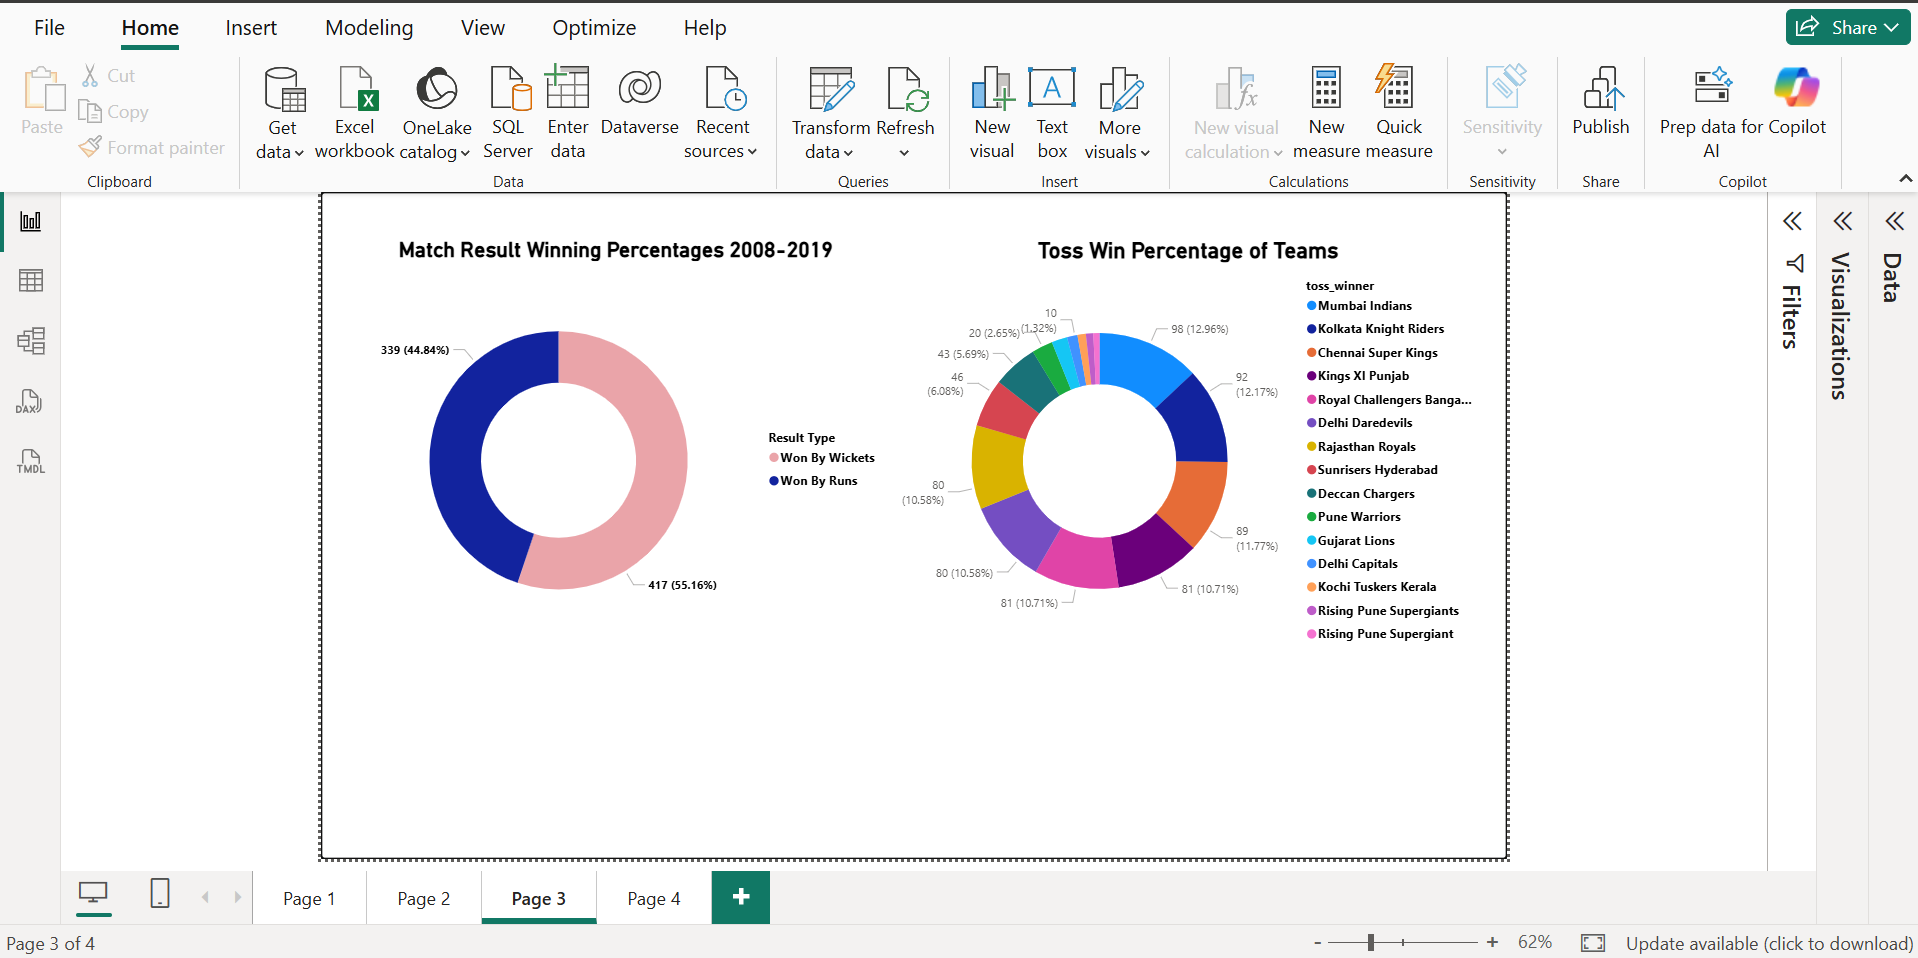

This screenshot's page, from the dashboard's own definition file:
{"tool":"powerbi","page":{"name":"Page 3","canvas":[1280,720],"ordinal":2},"visuals":[{"type":"donutChart","title":"Match Result Winning Percentages  2008-2019","fields":{"Y":["Sum(Table.Count )"],"Category":["Table.Result Type"]},"box":[24.6,49.1,587.7,455.4],"z":0},{"type":"donutChart","title":" Toss Win Percentage of Teams","fields":{"Y":["CountNonNull(matches.toss_decision)"],"Category":["matches.toss_winner"]},"box":[612.3,49.1,648.2,455.4],"z":1000}]}

Visuals, with their boxes on the page's 1280x720 design canvas (x1, y1, x2, y2). These are canvas units, not pixel positions in the 1918x958 screenshot, which may show the page scaled, cropped or inside an application window:
"Match Result Winning Percentages  2008-2019" donutChart: box(25, 49, 612, 504)
" Toss Win Percentage of Teams" donutChart: box(612, 49, 1260, 504)
